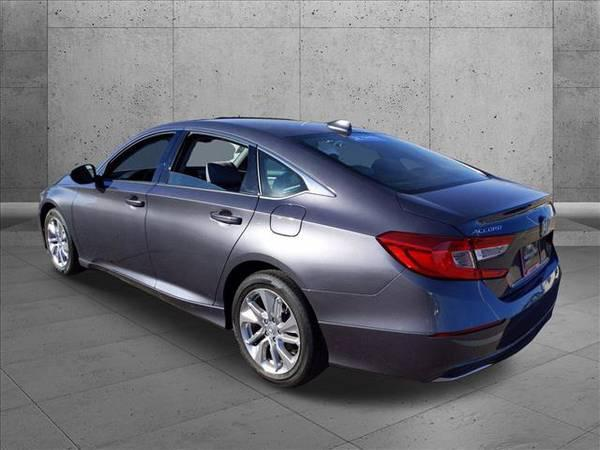Front_Fender: (38, 175, 84, 267)
Front_Left_Door: (72, 183, 155, 302)
Front_Left_Window: (91, 133, 182, 184)
Left_Taillight: (378, 231, 518, 280)
Rear_Bumper: (306, 253, 563, 380)
Rear_Fender: (232, 146, 466, 294)
Rear_Left_Door: (145, 187, 259, 331)
Rear_Left_Window: (157, 132, 260, 200)
Rear_Windshield: (289, 130, 492, 194)
Roof: (86, 117, 406, 209)
Tailgate: (402, 177, 560, 296)
Wheel: (227, 269, 323, 386), (44, 209, 73, 271)
